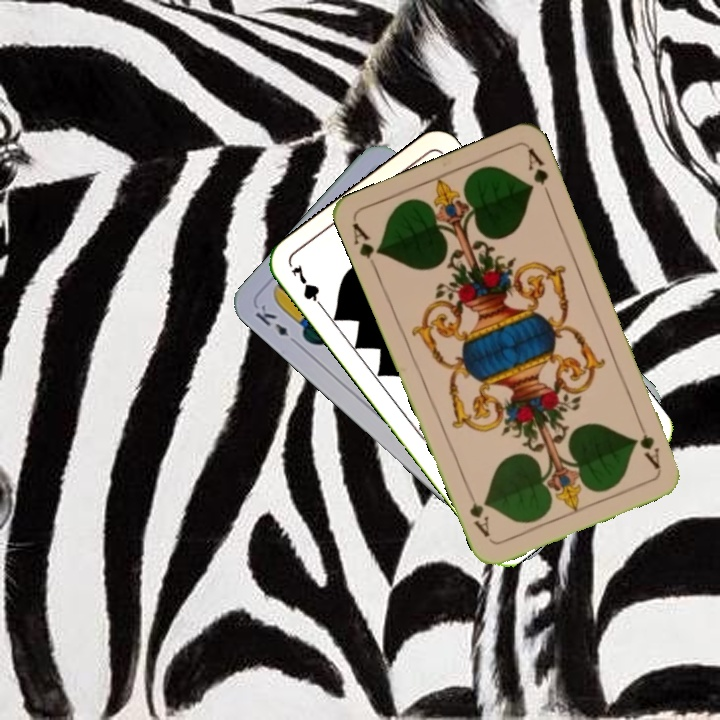EK: (250, 300, 302, 348)
G7: (287, 260, 328, 314)
GA: (348, 218, 385, 275), (633, 415, 663, 472)
